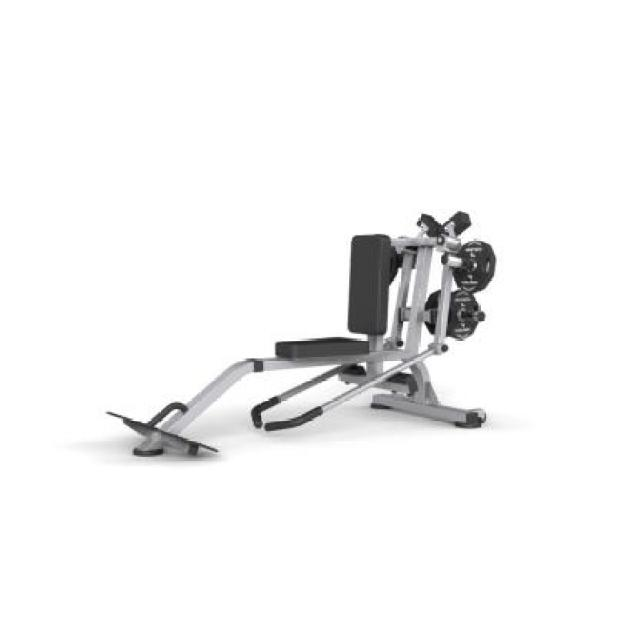lateral raises machine: (105, 209, 497, 460)
